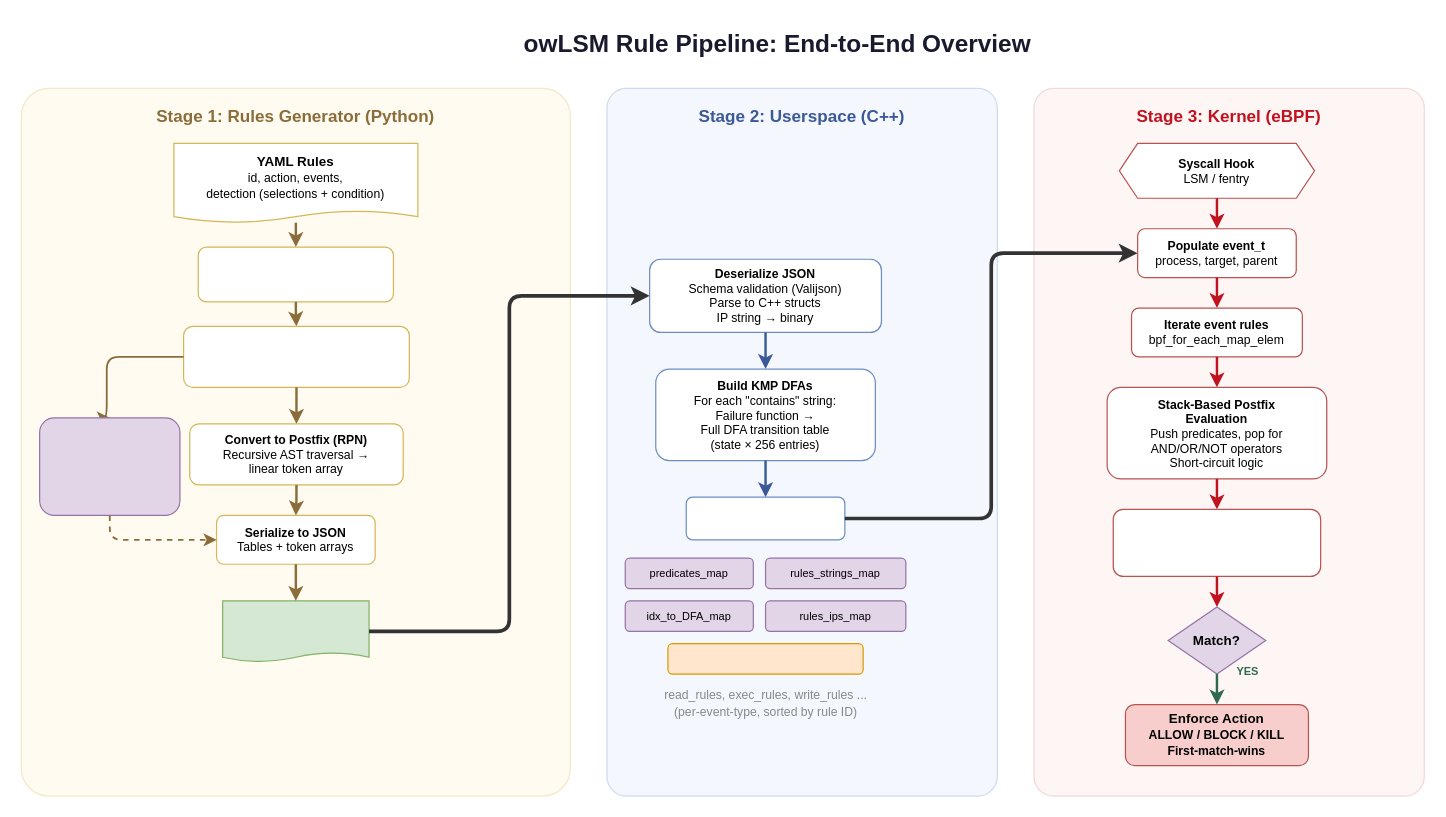
Some shapes in this 1446 by 817 pixel diagram are drawn without their labels. Each missing label, with the centre of its shape:
config.json: point 295,631
Lookup Tables id_to_string id_to_predicate id_to_ip (deduplicated): point 109,466
Parse AST (pySigma) Custom OwlsmBackend builds predicates + expression tree: point 295,356
Populate BPF Maps: point 765,518
Predicate Evaluation Cache → String (KMP DFA) / Numeric / IP CIDR → Cache: point 1216,542
Validate Schema fields, modifiers, events, types: point 295,274
{event}_rules: point 765,658
